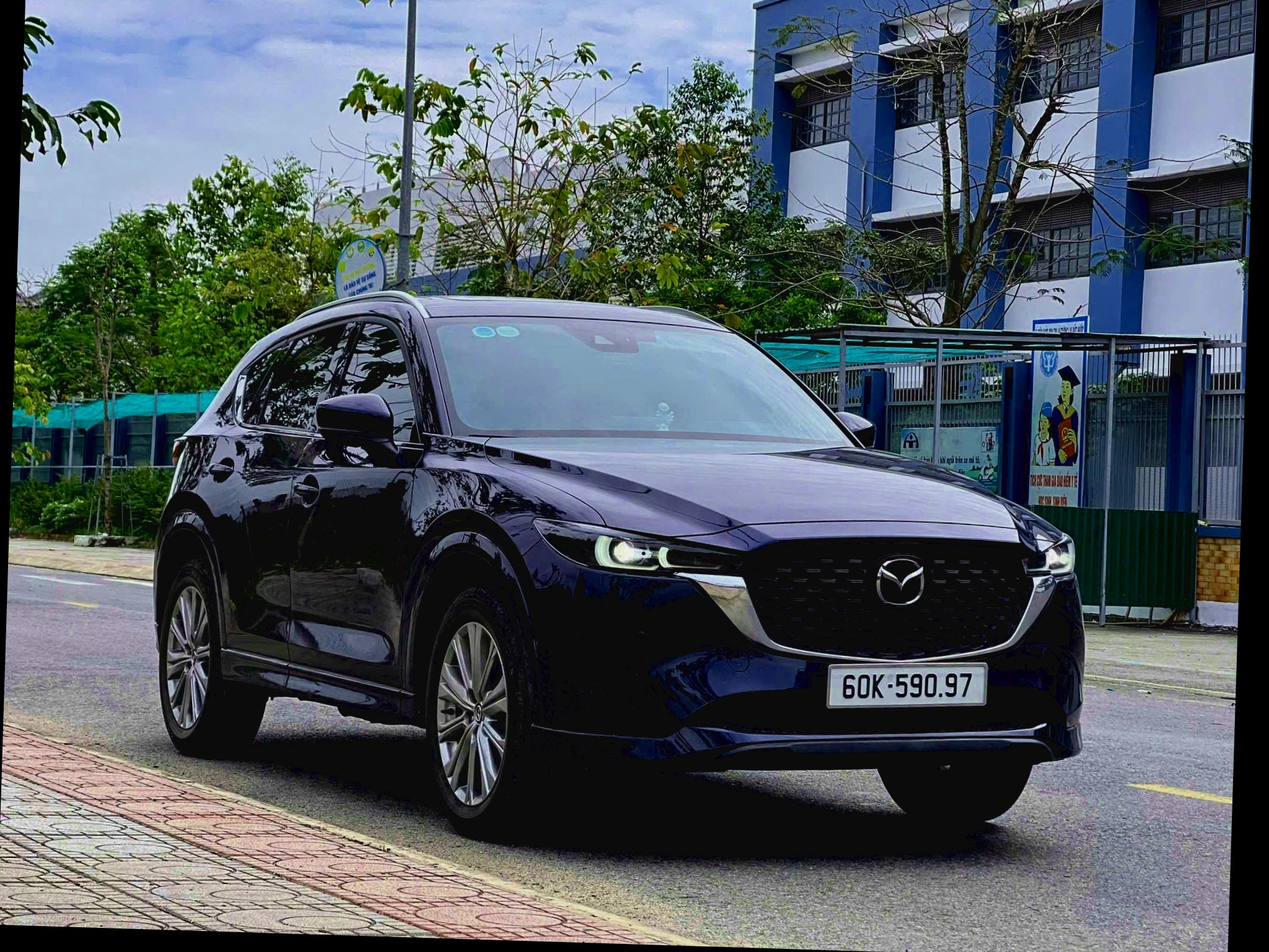Bien-so: (845, 700, 1021, 761)
